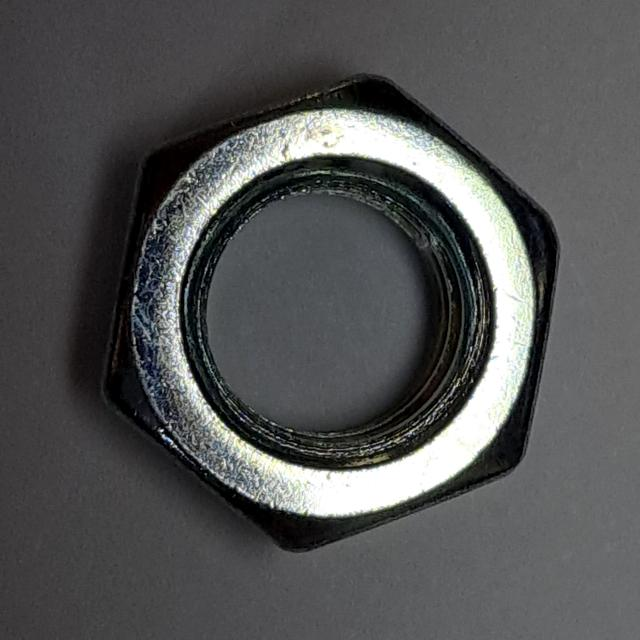Excellent: (85, 57, 566, 564)
